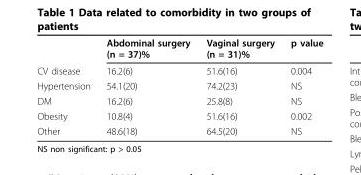table: (36, 36, 322, 136)
table column: (97, 36, 197, 136), (197, 36, 282, 136), (36, 36, 97, 136), (282, 36, 322, 136)
table column header: (36, 36, 322, 62)
table row: (36, 36, 322, 62), (36, 77, 322, 93), (36, 62, 322, 77), (36, 93, 322, 108), (36, 108, 322, 123), (36, 123, 322, 136)
